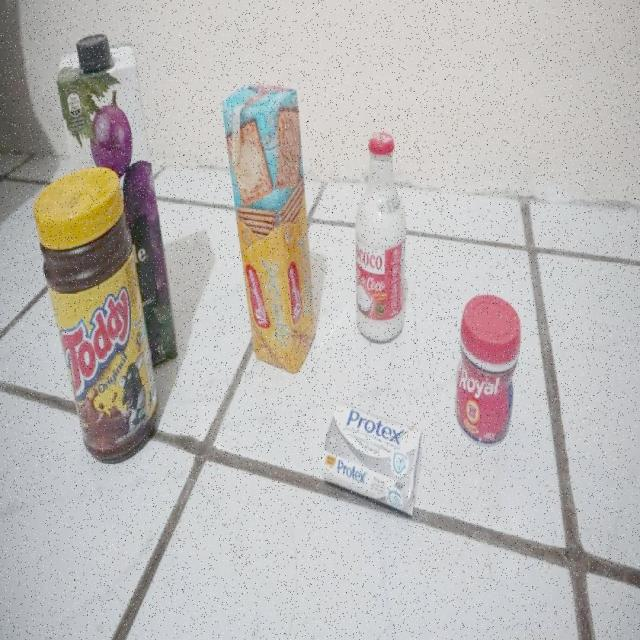ChocolatePowder: (31, 167, 160, 465)
CoconutMilk: (354, 133, 411, 345)
Cracker: (221, 82, 317, 376)
Soap: (320, 403, 423, 518)
Yeast: (454, 293, 522, 448)
